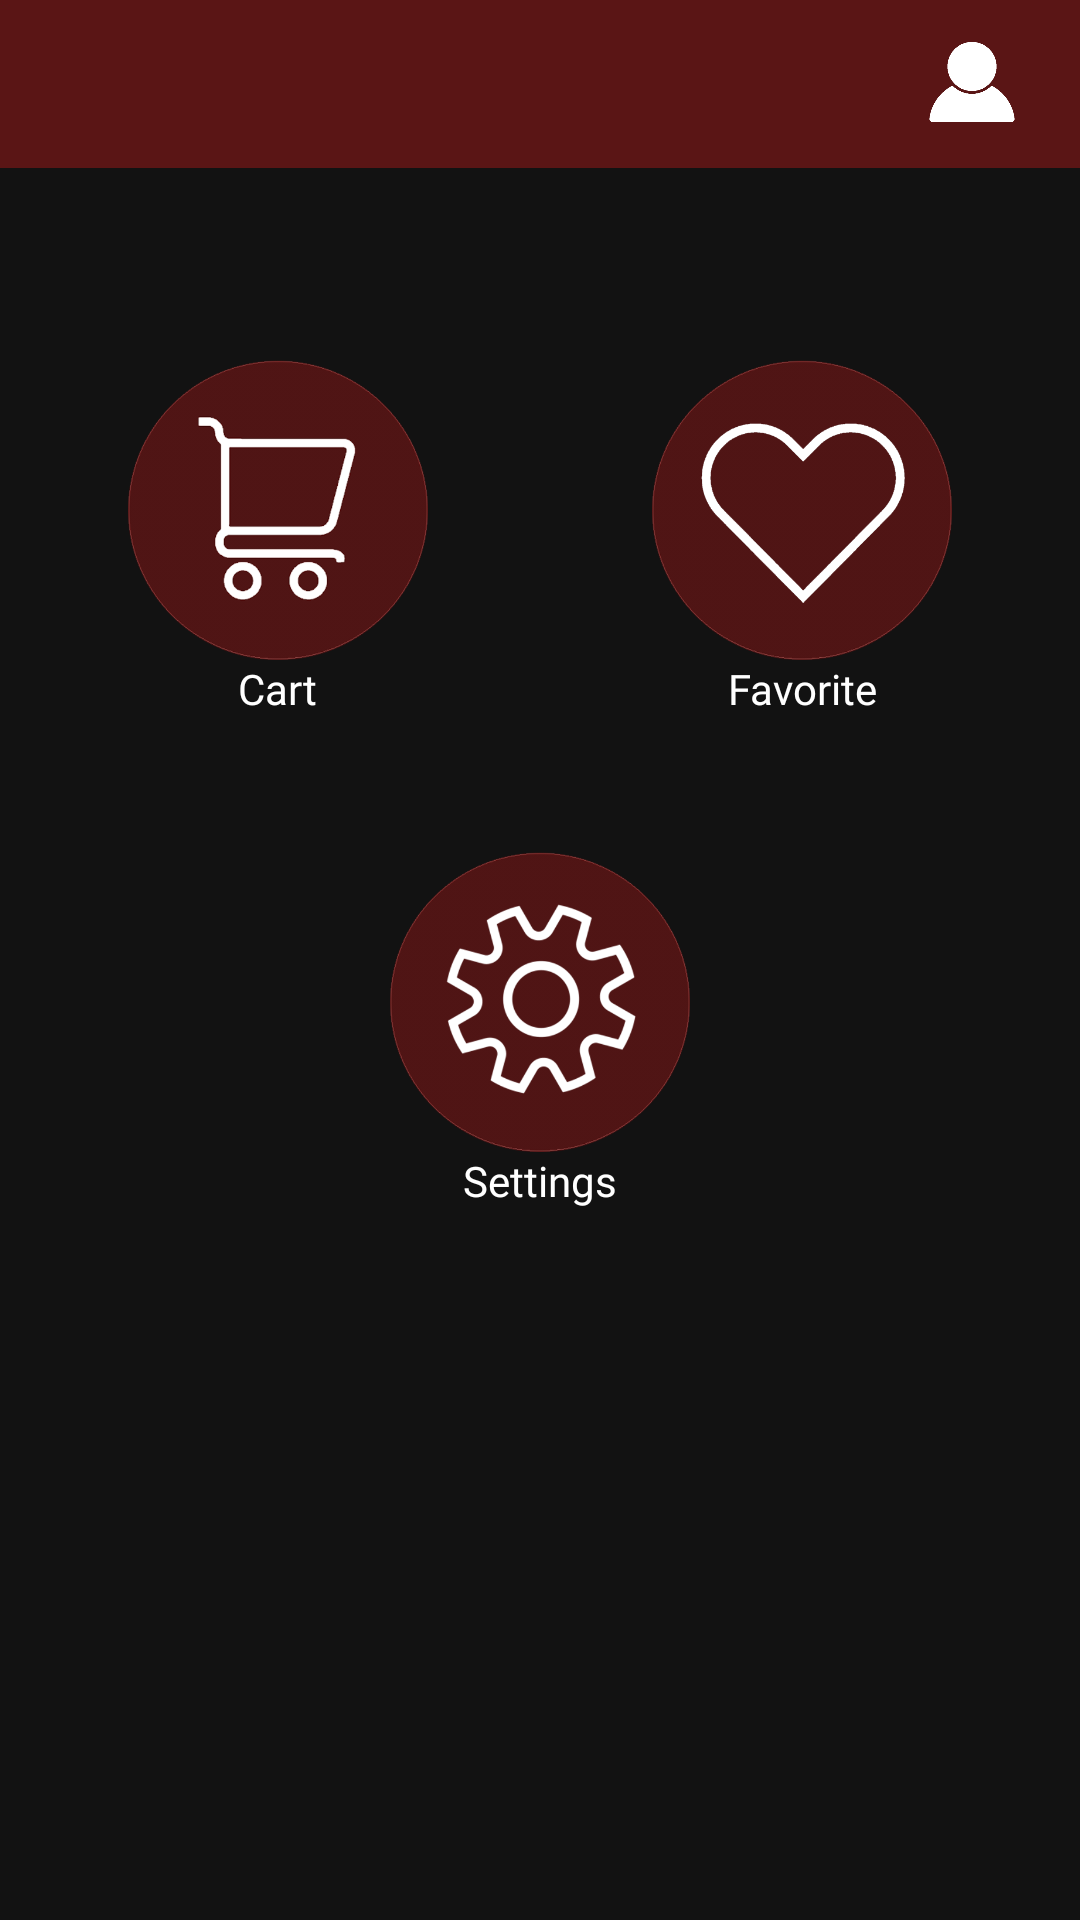

Locate icon controls on the screen. Image size 1080*1920, boxes as (x1, y1, x2, y2).
heart: (652, 361, 952, 660)
user: (929, 42, 1015, 122)
